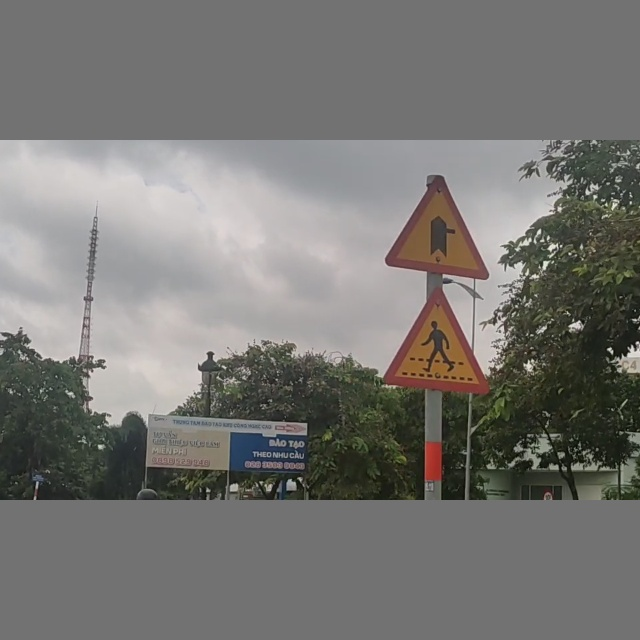W.207: (382, 175, 489, 279)
W.224: (378, 287, 491, 395)
